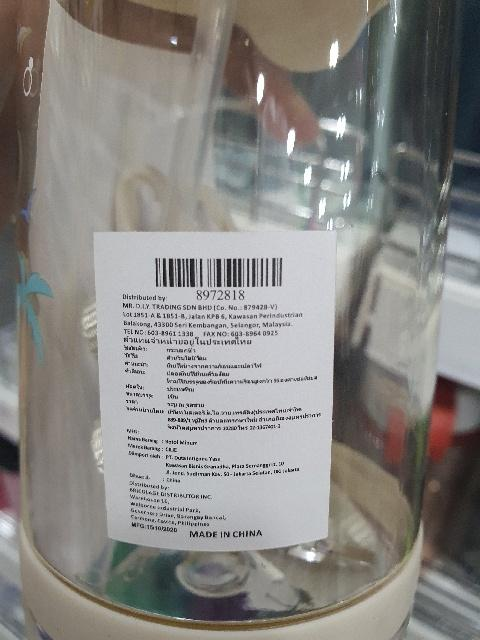Barcode: (149, 251, 289, 303)
